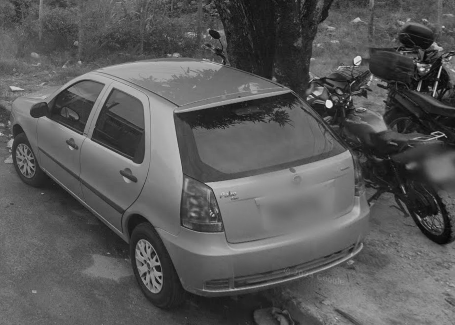car: (8, 58, 372, 307)
